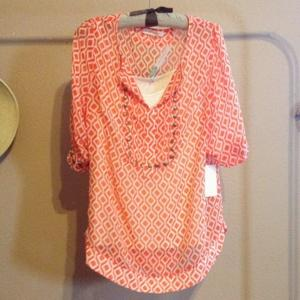C_blouse: (63, 13, 241, 295)
